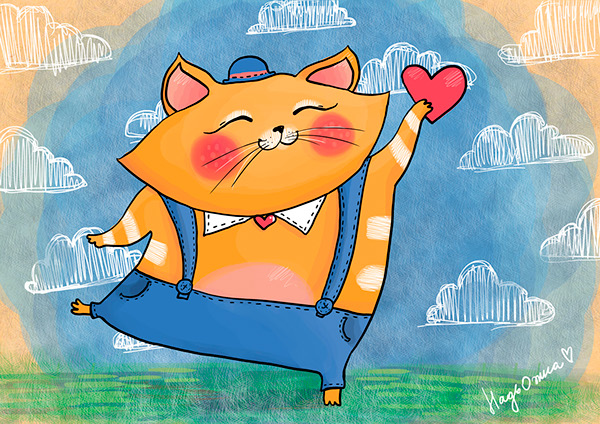cat: (65, 50, 471, 411)
